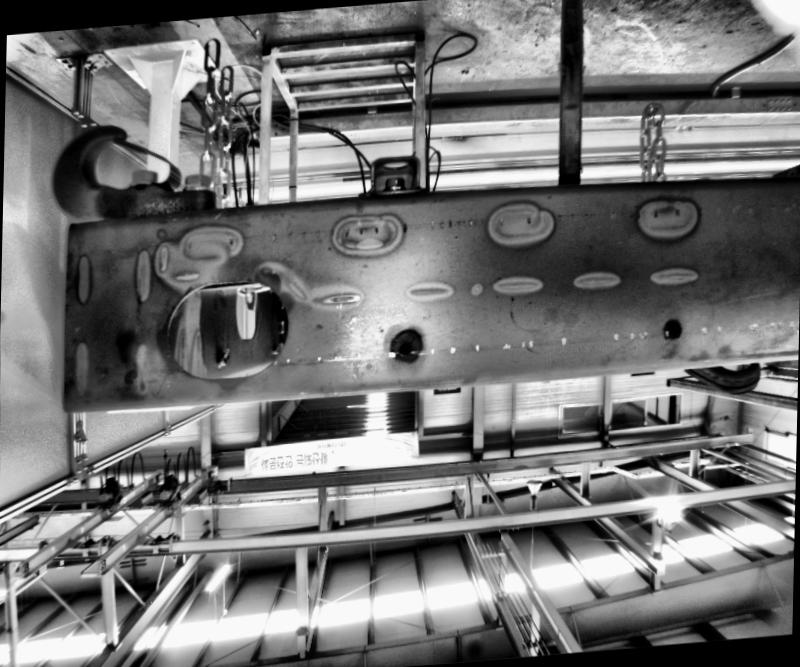bolt: (380, 172, 405, 190)
bracket: (349, 140, 438, 194)
hole: (152, 274, 288, 384), (395, 337, 413, 356), (665, 318, 681, 336)
